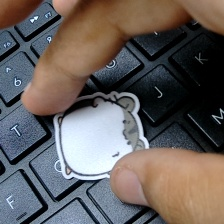mouse: (50, 87, 158, 183)
